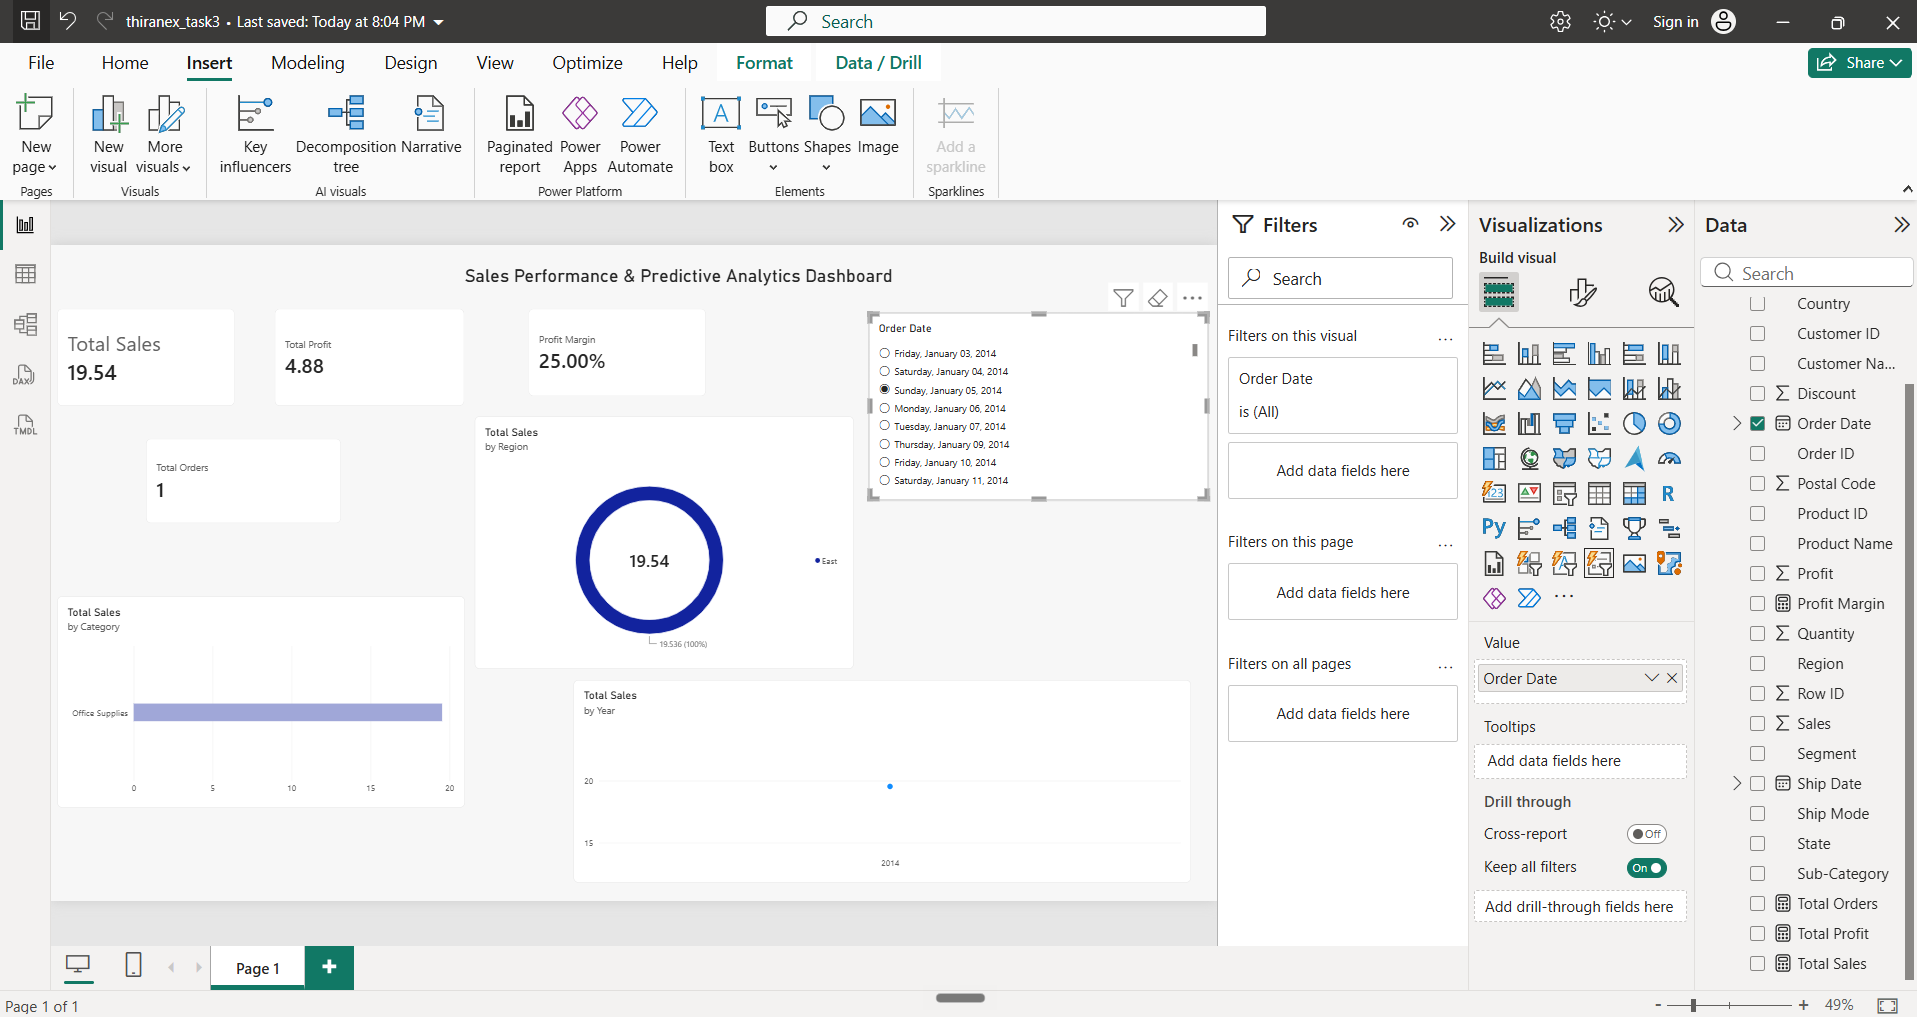

This screenshot's page, from the dashboard's own definition file:
{"tool":"powerbi","page":{"name":"Page 1","canvas":[1920,1080],"ordinal":0},"visuals":[{"type":"cardVisual","fields":{"Data":["Sample - Superstore.Total Sales"]},"box":[10.3,105,292.3,160.5],"z":0},{"type":"cardVisual","fields":{"Data":["Sample - Superstore.Total Profit"]},"box":[368.4,105,312.9,160.5],"z":1},{"type":"cardVisual","fields":{"Data":["Sample - Superstore.Total Orders"]},"box":[156.4,319,321.1,140],"z":2},{"type":"cardVisual","fields":{"Data":["Sample - Superstore.Profit Margin"]},"box":[786.3,105,292.3,144.1],"z":3},{"type":"lineChart","fields":{"Category":["Sample - Superstore.Order Date.Variation.Date Hierarchy.Year","Sample - Superstore.Order Date.Variation.Date Hierarchy.Quarter","Sample - Superstore.Order Date.Variation.Date Hierarchy.Month","Sample - Superstore.Order Date.Variation.Date Hierarchy.Day"],"Y":["Sample - Superstore.Total Sales"]},"box":[860.4,716.3,1016.8,333.4],"z":4},{"type":"clusteredBarChart","fields":{"Category":["Sample - Superstore.Category"],"Y":["Sample - Superstore.Total Sales"]},"box":[10.3,578.4,671,347.9],"z":5},{"type":"donutChart","fields":{"Category":["Sample - Superstore.Region"],"Y":["Sample - Superstore.Total Sales"]},"box":[697.8,282,623.7,415.8],"z":6},{"type":"textbox","title":"Sales Performance & Predictive Analytics Dashboard","box":[681.3,32.9,741,78.2],"z":7},{"type":"listSlicer","fields":{"Values":["Sample - Superstore.Order Date"]},"box":[1346.1,111.1,559.9,308.7],"z":8}]}

Visuals, with their boxes on the page's 1920x1080 design canvas (x1, y1, x2, y2). These are canvas units, not pixel positions in the 1917x1017 screenshot, which may show the page scaled, cropped or inside an application window:
cardVisual - Sample - Superstore.Total Sales: x1=10, y1=105, x2=303, y2=266
cardVisual - Sample - Superstore.Total Profit: x1=368, y1=105, x2=681, y2=266
cardVisual - Sample - Superstore.Total Orders: x1=156, y1=319, x2=478, y2=459
cardVisual - Sample - Superstore.Profit Margin: x1=786, y1=105, x2=1079, y2=249
lineChart - Sample - Superstore.Order Date.Variation.Date Hierarchy.Year x Sample - Superstore.Order Date.Variation.Date Hierarchy.Quarter: x1=860, y1=716, x2=1877, y2=1050
clusteredBarChart - Sample - Superstore.Category x Sample - Superstore.Total Sales: x1=10, y1=578, x2=681, y2=926
donutChart - Sample - Superstore.Region x Sample - Superstore.Total Sales: x1=698, y1=282, x2=1322, y2=698
"Sales Performance & Predictive Analytics Dashboard" textbox: x1=681, y1=33, x2=1422, y2=111
listSlicer - Sample - Superstore.Order Date: x1=1346, y1=111, x2=1906, y2=420
